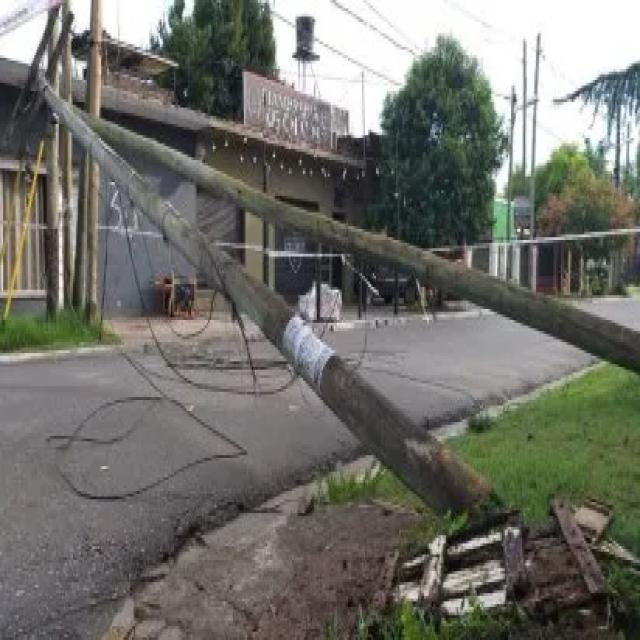Inclined Pole: (0, 3, 518, 523), (86, 107, 640, 372)
